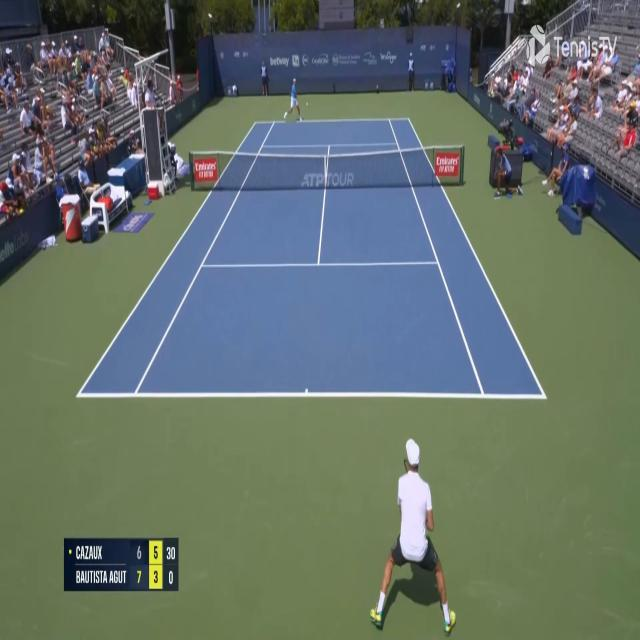tennis-player: (369, 432, 456, 638), (283, 76, 305, 124)
